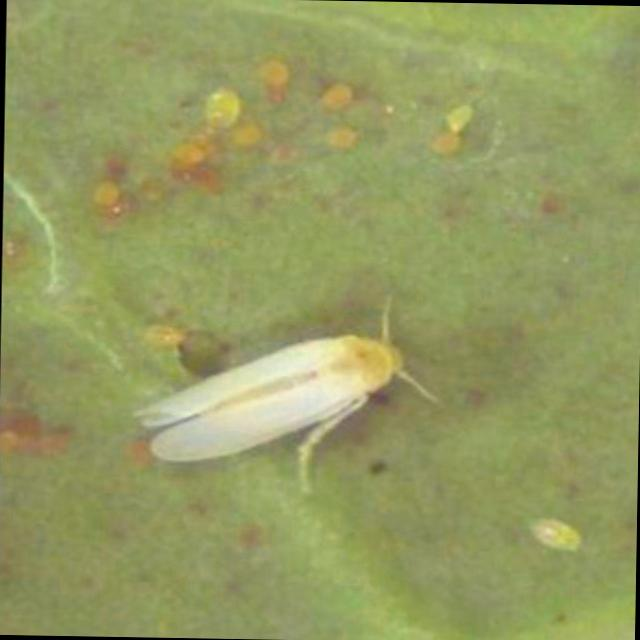Silverleaf whitefly: (142, 278, 412, 508)
